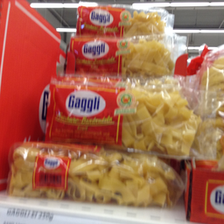pasta: (44, 76, 215, 161), (8, 141, 178, 207), (70, 35, 180, 76)
